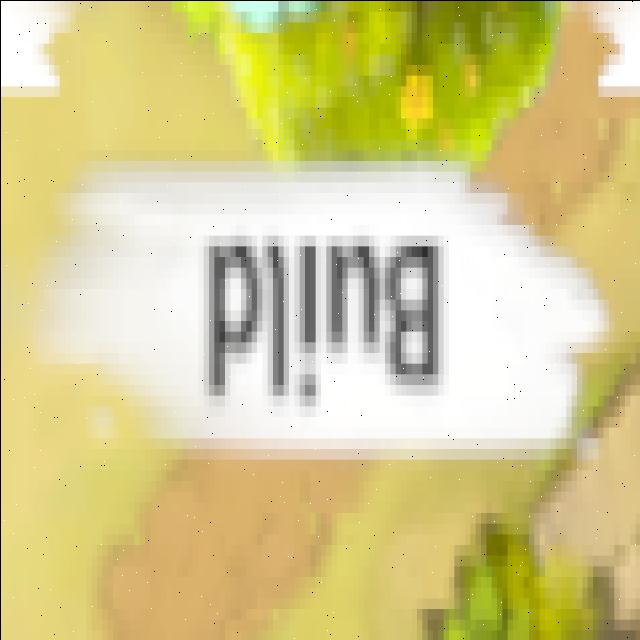build: (188, 205, 456, 433)
